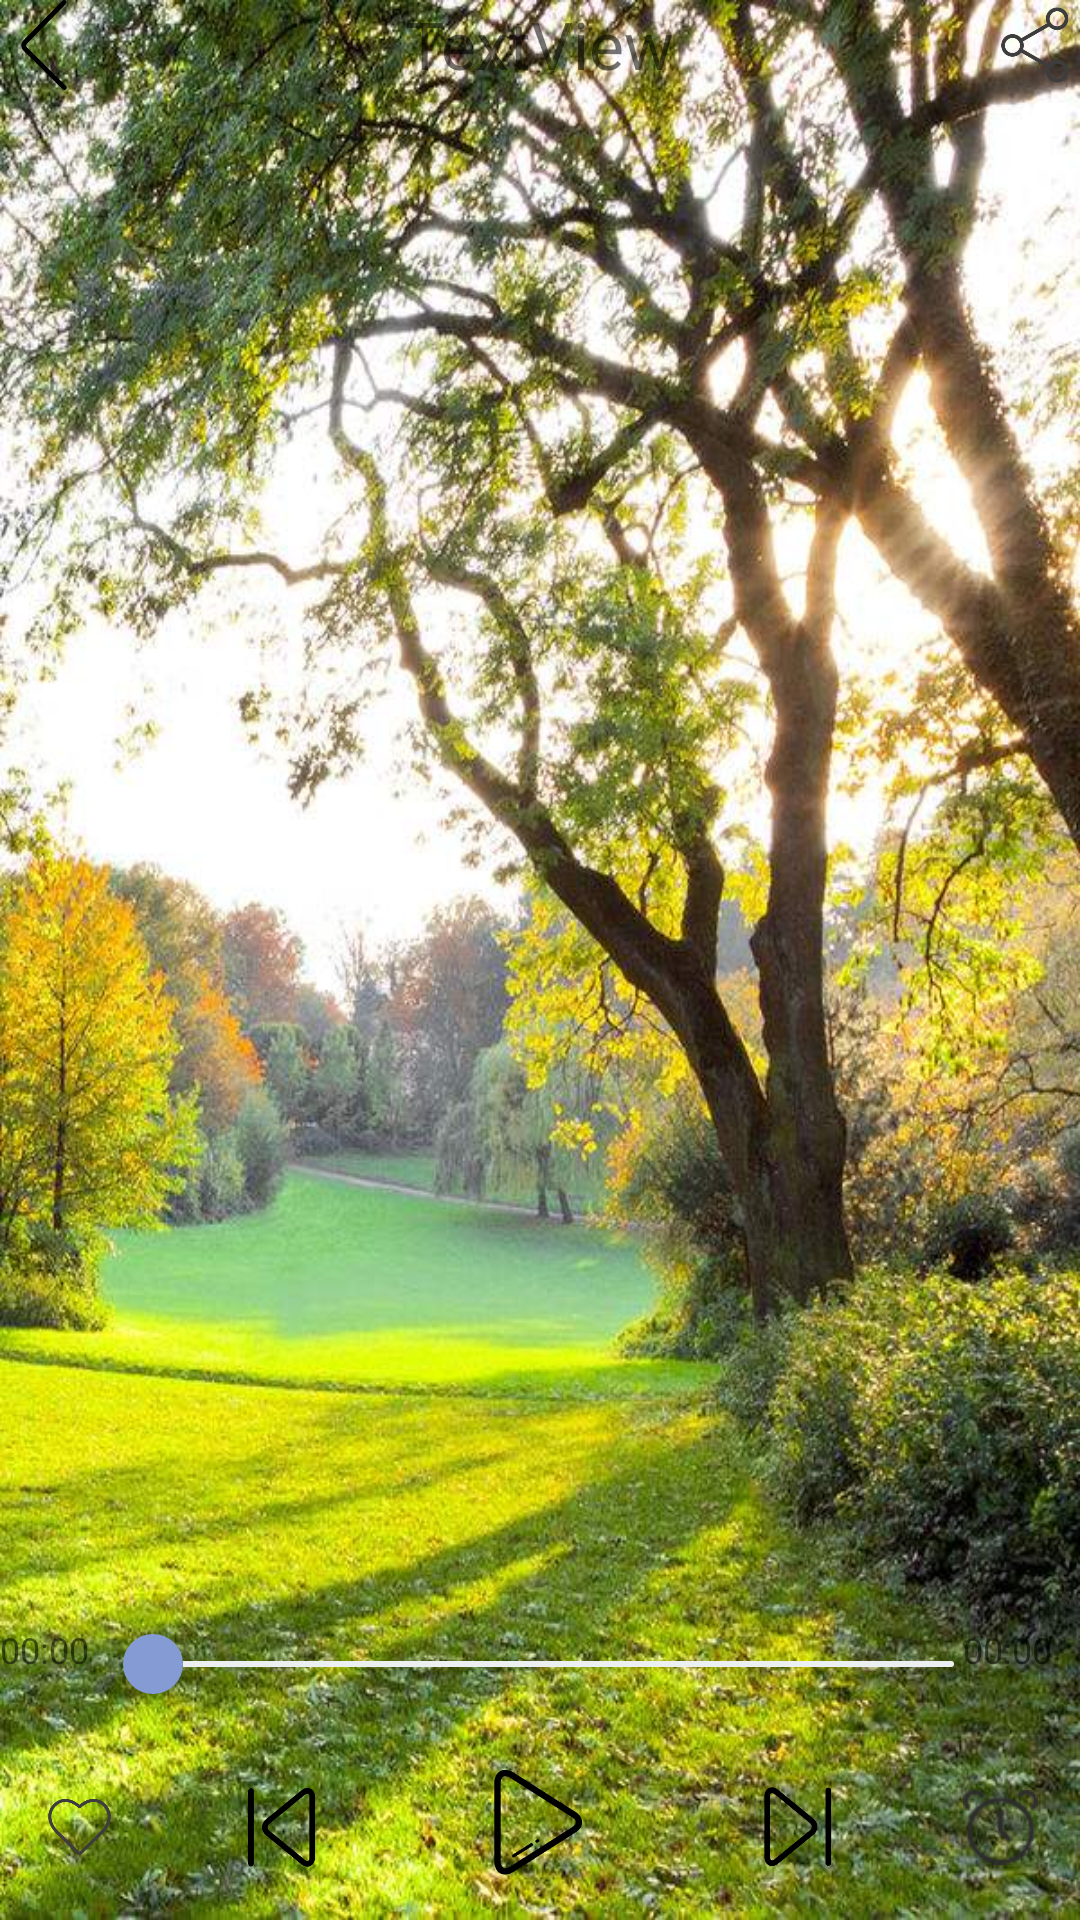

Icon click points for this 1080×1920 phone screenshot, format (x=x, y=y):
alarm: (x=1000, y=1827)
fanhui: (x=45, y=45)
left: (x=282, y=1827)
play: (x=540, y=1827)
right: (x=798, y=1827)
share: (x=1035, y=45)
xihuan: (x=79, y=1827)
